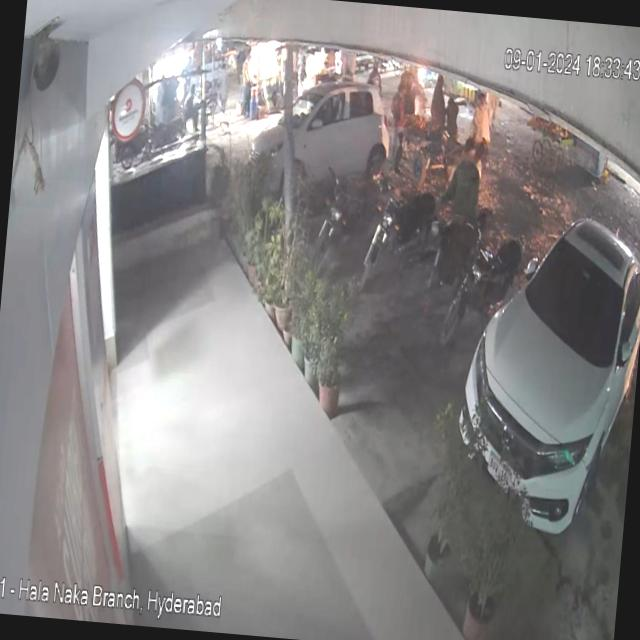Car: (448, 189, 640, 558), (245, 75, 411, 211)
Motorcycle: (362, 168, 444, 302), (437, 215, 509, 348), (314, 172, 380, 280), (408, 211, 454, 327)
